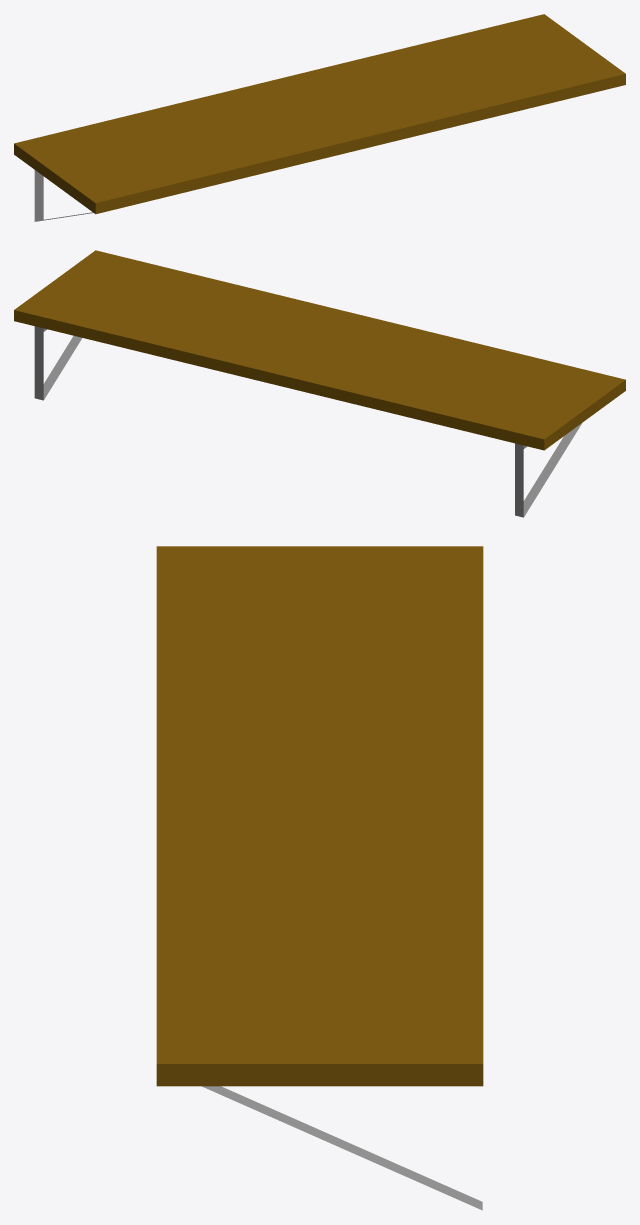
Rendered from ShelfWall.FBX.
3 renders of one model, top to bottom at view 1: azimuth 30°, elevation 25°; view 2: azimuth 150°, elevation 25°; view 3: azimuth 270°, elevation 25°, orthographic. The views are drawn at different scales.
Parts seen in each view (by area): view 1: shelf; view 2: shelf; view 3: shelf.
Part boxes in pixels (left/top/right/bottom): shelf: left=14, top=14, right=625, bottom=221; shelf: left=14, top=250, right=625, bottom=517; shelf: left=156, top=546, right=483, bottom=1210.
Size of the model in its own units: 59.06 by 8.87 by 15.75.
